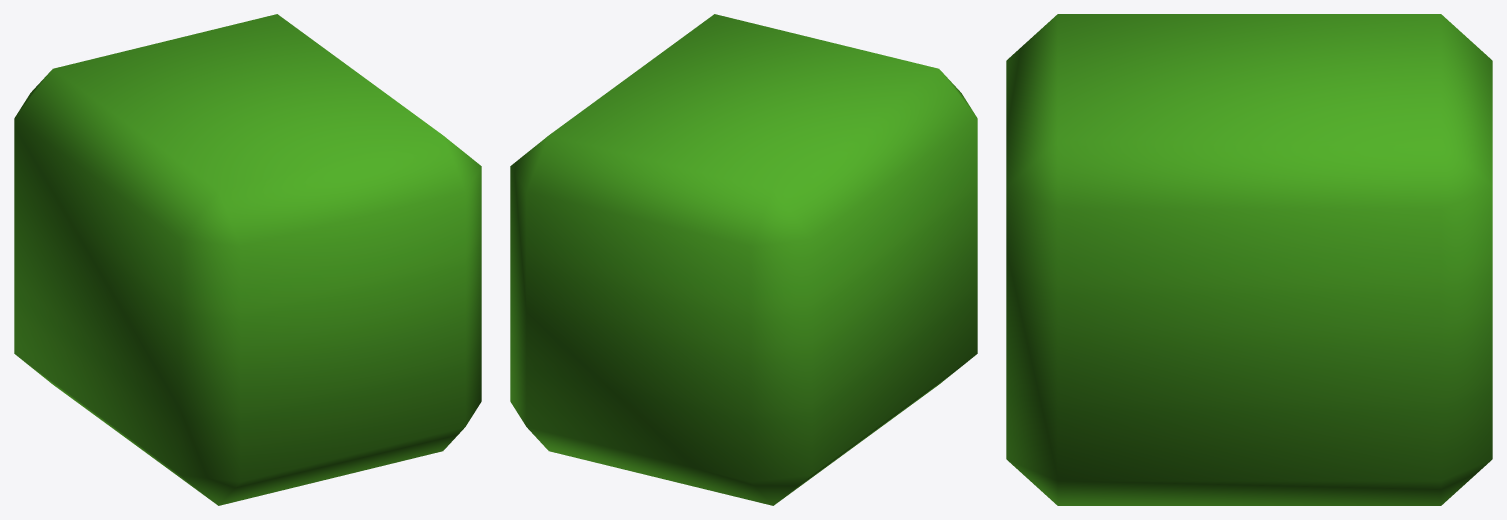
The model's file is Bush_1_C_3.glb.
3 renders of one model, left to right at view 1: azimuth 30°, elevation 25°; view 2: azimuth 150°, elevation 25°; view 3: azimuth 270°, elevation 25°, orthographic. The views are drawn at different scales.
Parts seen in each view (by area): view 1: Bush_1_C_3; view 2: Bush_1_C_3; view 3: Bush_1_C_3.
Boxes of the visible parts, x1,y1,x2,y2 form: Bush_1_C_3: (14,14,481,505); Bush_1_C_3: (510,14,977,505); Bush_1_C_3: (1006,14,1492,505).
Bounding box in the file's own units: 0.6194 × 0.6194 × 0.7478.
1 material, 1 textured.
